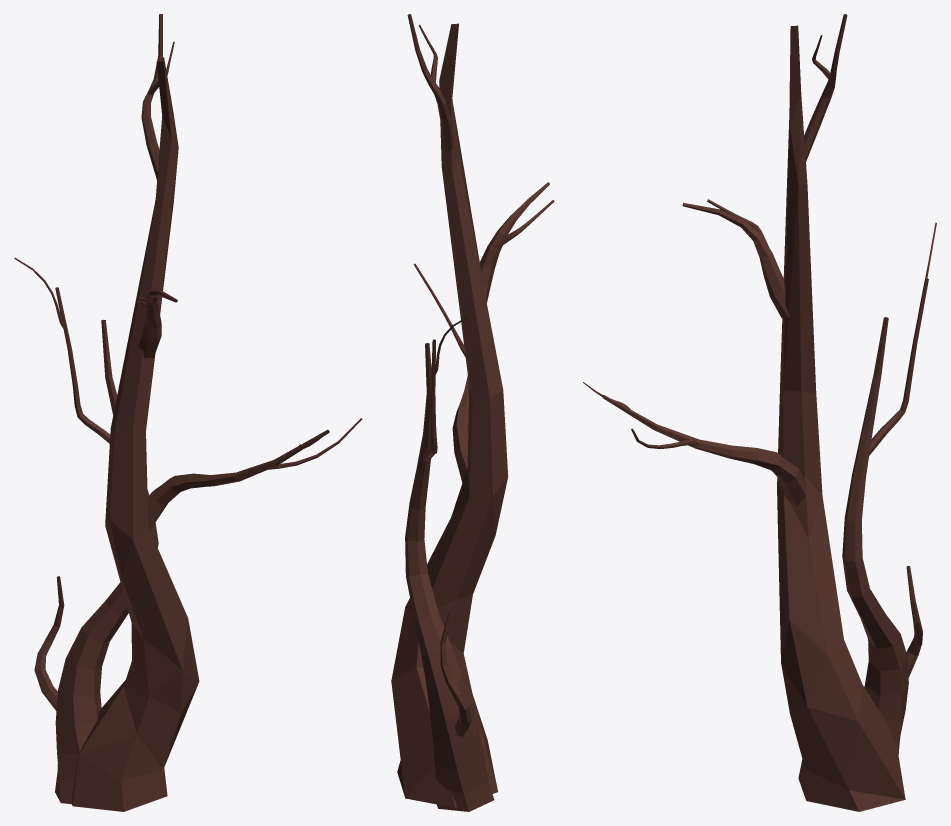
Rendered from small-tree_1.fbx.
The picture shows the model from 3 angles, left to right: view 1: azimuth 30°, elevation 25°; view 2: azimuth 150°, elevation 25°; view 3: azimuth 270°, elevation 25°; orthographic projection. The views are drawn at different scales.
Visible parts, largest first — view 1: tree 1.010; view 2: tree 1.010; view 3: tree 1.010.
Boxes of the visible parts, <box> form: tree 1.010: <box>14,14,362,811</box>; tree 1.010: <box>391,14,554,811</box>; tree 1.010: <box>583,14,936,811</box>.
Bounding box in the file's own units: 2.78 × 10.24 × 4.08.
